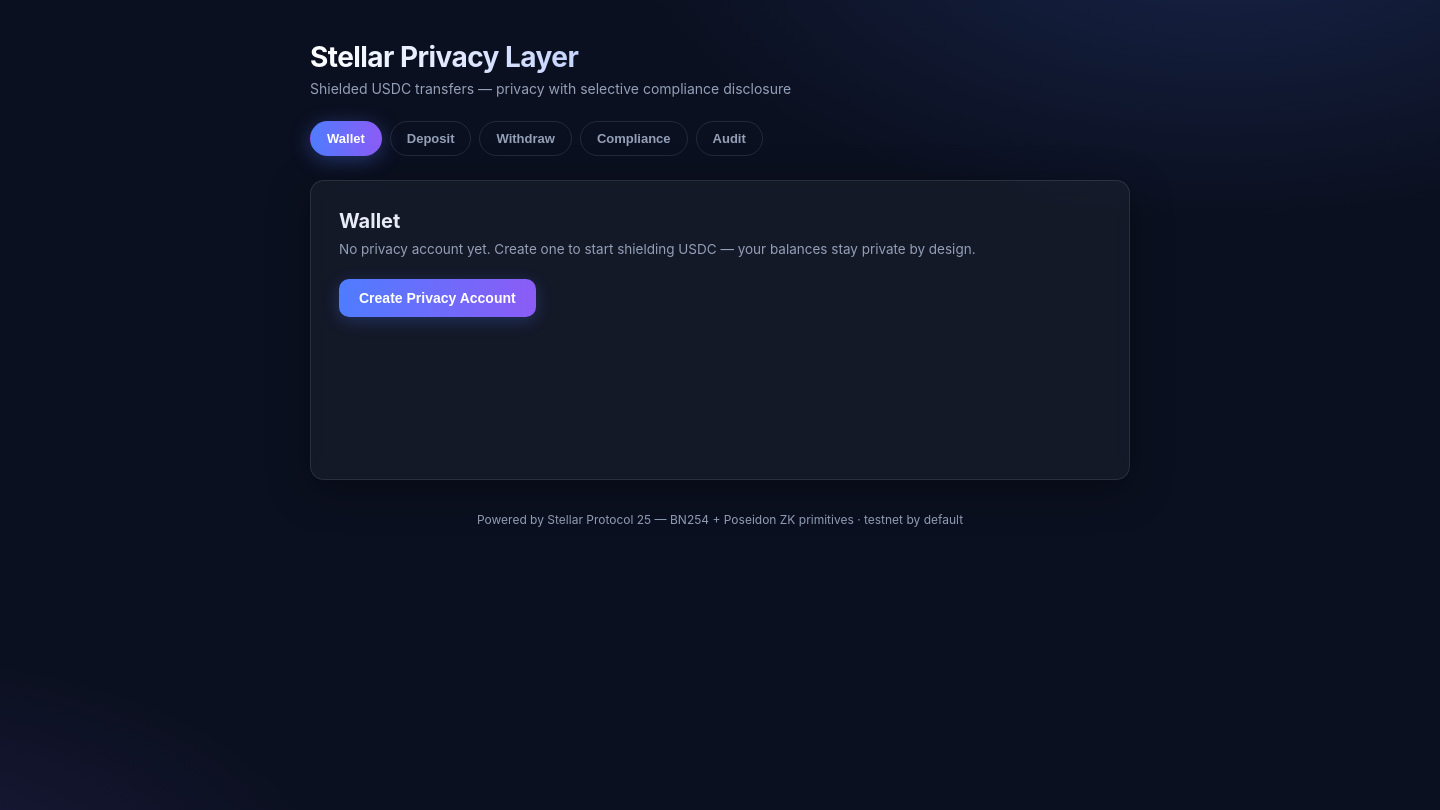
Scenario: App › deposits after creating an account
This screenshot has width=1440, height=810.
What coordinates should you click on to do the following:
click the button "Create Privacy Account"
I would click on:
 (437, 298)
Its box is [339,279,536,317].
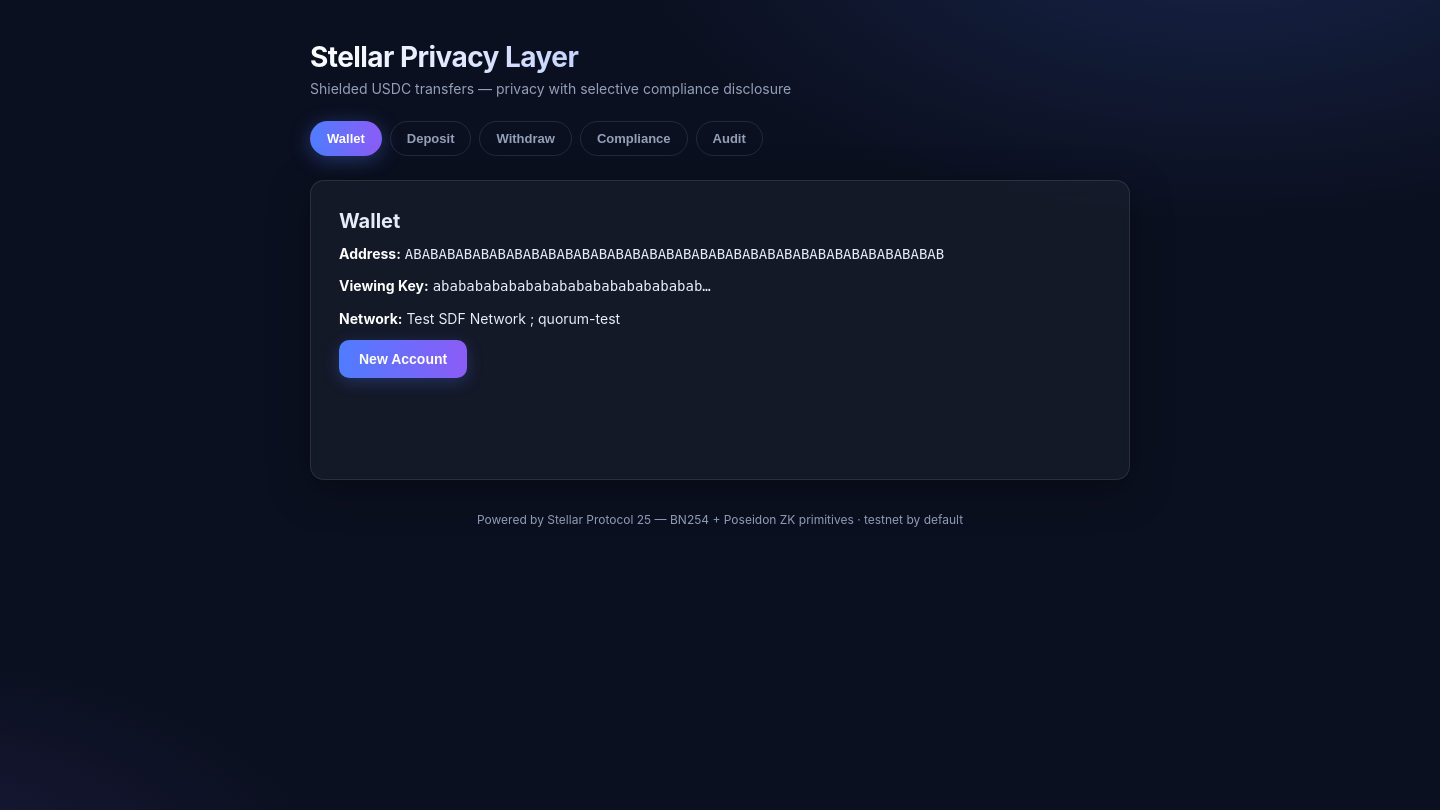
What coordinates should you click on to do the following:
click the button "Deposit"
I would click on:
 (431, 138)
Its box is [390,121,472,156].
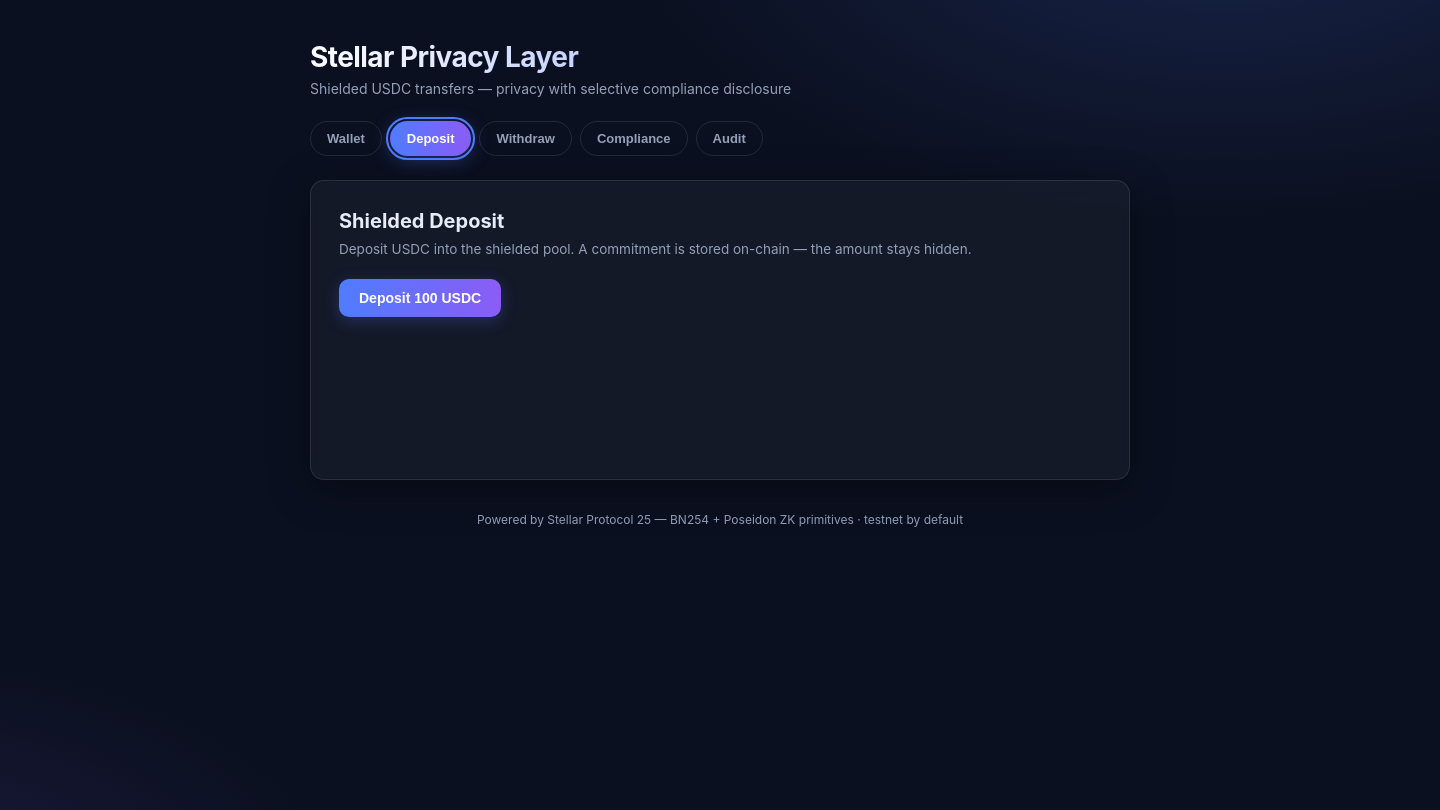
What coordinates should you click on to do the following:
click the button "Deposit 100 USDC"
I would click on:
 (420, 298)
Its box is [339,279,501,317].
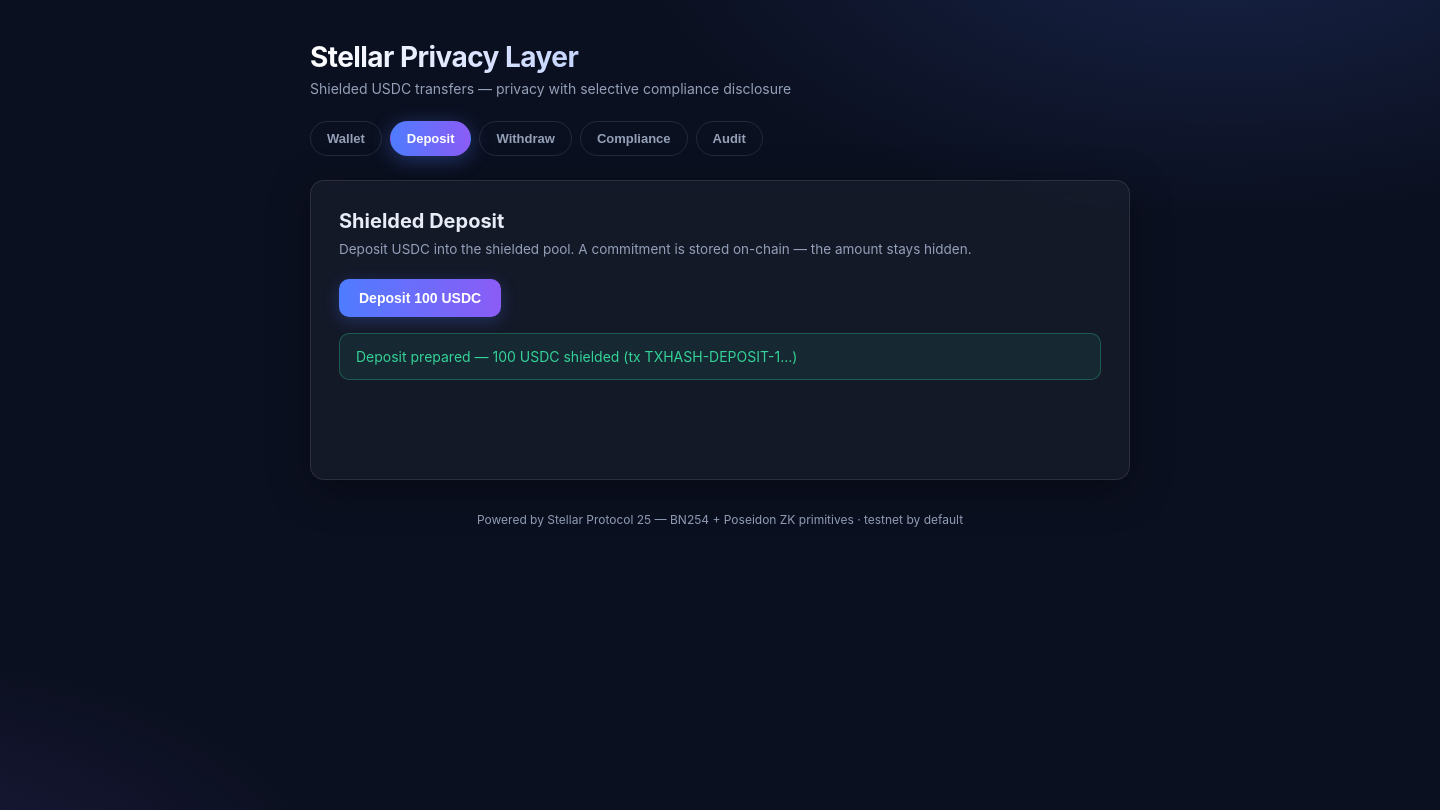
Now the message shows "Deposit prepared", box [356,348,797,365]
